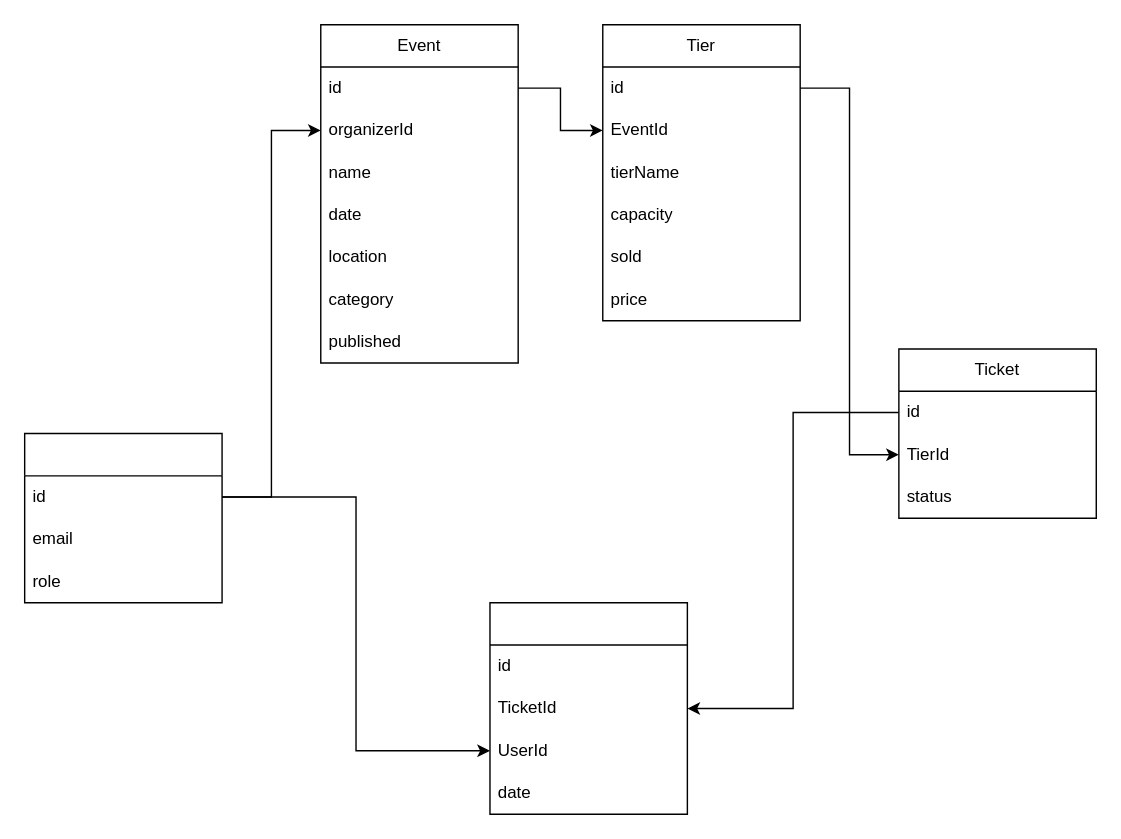
The diagram is 1121 pixels wide and 839 high, and some of its shapes have lost their labels. The box of each missing label's shape, as (x1, y1, x2, y2) in pixels:
Order: (489, 601, 687, 814)
User: (23, 432, 222, 603)
